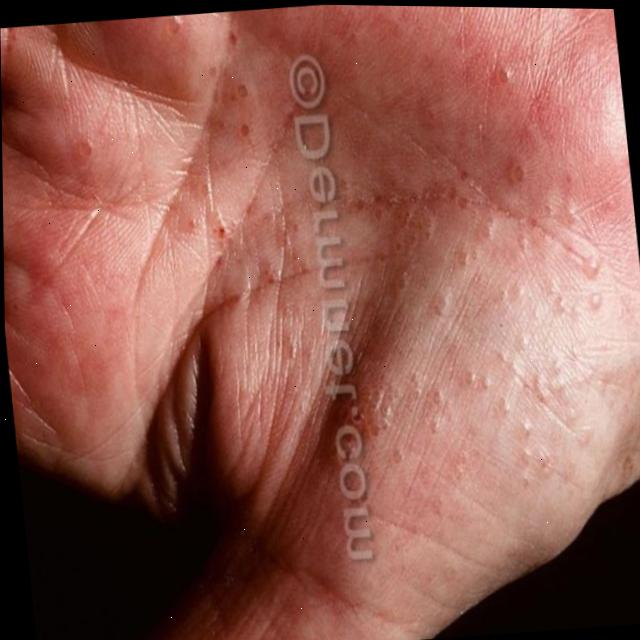Eczema: (174, 3, 635, 505)
